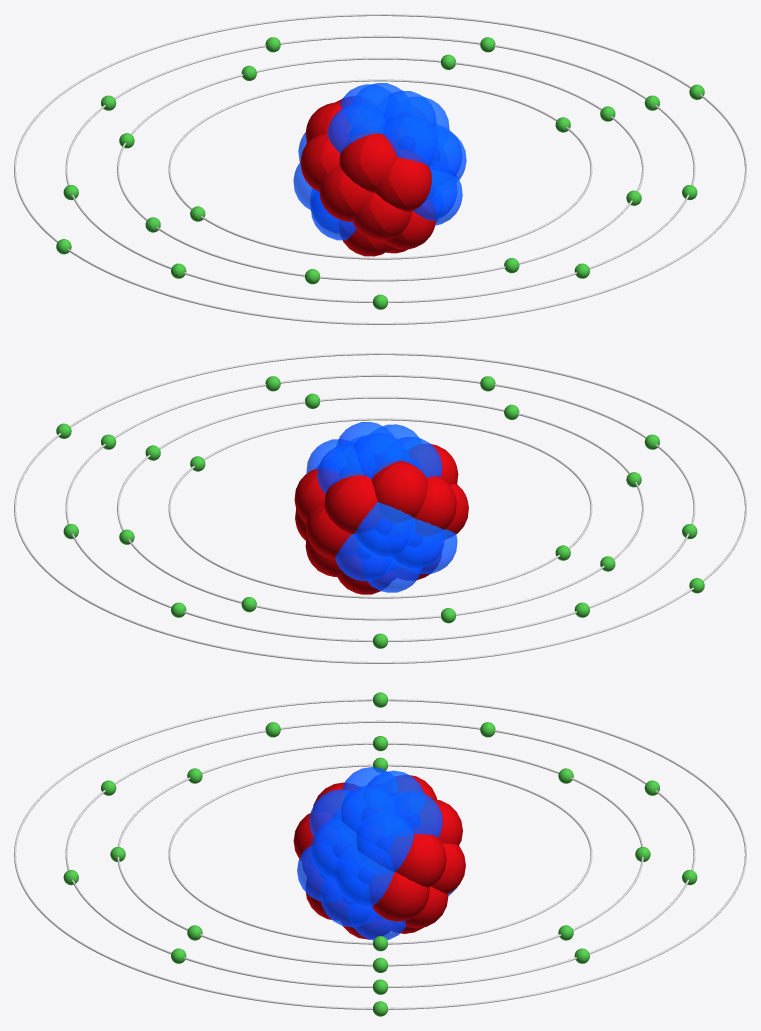
The model's file is element_021_scandium.glb.
The picture shows the model from 3 angles, top to bottom: view 1: azimuth 30°, elevation 25°; view 2: azimuth 150°, elevation 25°; view 3: azimuth 270°, elevation 25°; orthographic projection.
Parts seen in each view (by area): view 1: element_021_scandium_nucleus, scandium_orbital_1_13; view 2: element_021_scandium_nucleus, scandium_orbital_1_13; view 3: element_021_scandium_nucleus, scandium_orbital_1_13.
Part boxes in pixels (bbox=[...]): element_021_scandium_nucleus: bbox=[293, 83, 466, 256]; scandium_orbital_1_13: bbox=[14, 14, 746, 324]; element_021_scandium_nucleus: bbox=[294, 422, 468, 594]; scandium_orbital_1_13: bbox=[14, 353, 746, 663]; element_021_scandium_nucleus: bbox=[293, 767, 465, 940]; scandium_orbital_1_13: bbox=[14, 692, 746, 1016].
Size of what is drawn, in the model's own units: 0.6225 by 0.1448 by 0.6113.
